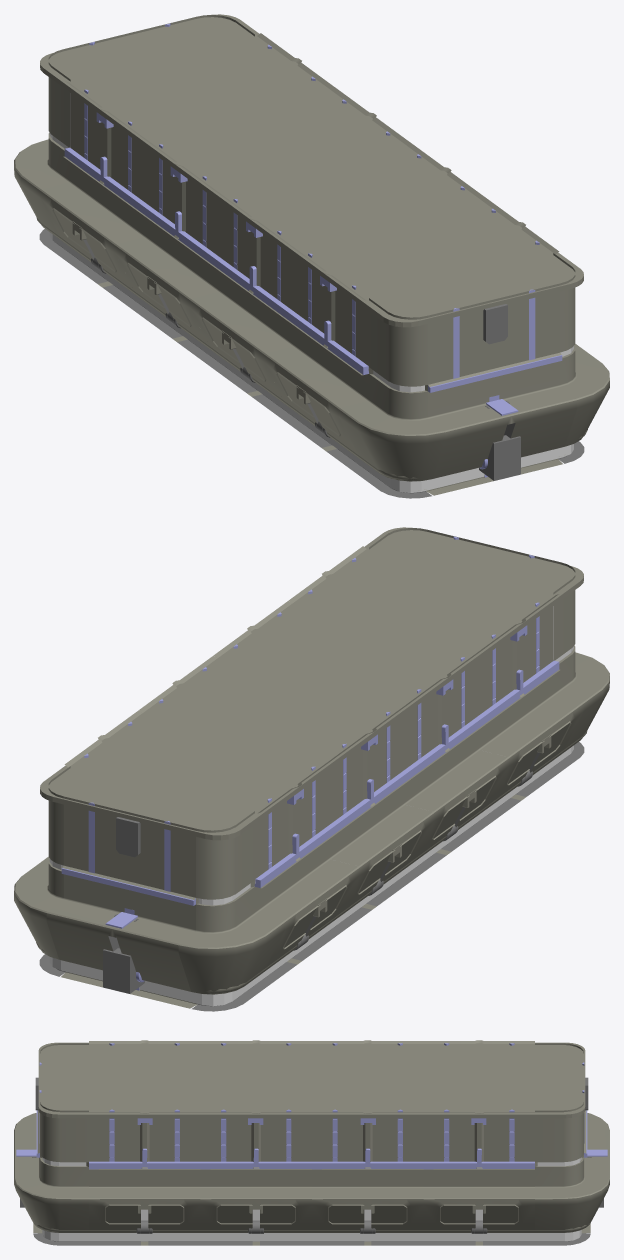
Rendered from modular_v2.glb.
3 renders of one model, top to bottom at view 1: azimuth 30°, elevation 25°; view 2: azimuth 150°, elevation 25°; view 3: azimuth 270°, elevation 25°, orthographic. The views are drawn at different scales.
Parts seen in each view (by area): view 1: Plane, Cube.001, Cube.004, Cube.002, -col; view 2: Plane, Cube.001, Cube.004, Cube.002, -col; view 3: Cube.001, Plane, Cube.002, -col, Cube.004.
Boxes of the visible parts, box(x1,y1,x2,y2) form: Plane: box(40, 14, 583, 327); Cube.001: box(40, 33, 582, 476); Cube.004: box(47, 17, 577, 495); Cube.002: box(14, 15, 609, 498); -col: box(49, 93, 573, 492); Plane: box(40, 527, 583, 840); Cube.001: box(41, 546, 583, 989); Cube.004: box(46, 530, 576, 1008); Cube.002: box(14, 528, 609, 1011); -col: box(49, 606, 573, 1006); Cube.001: box(89, 1040, 534, 1245); Plane: box(38, 1042, 585, 1124); Cube.002: box(14, 1043, 609, 1245); -col: box(42, 1157, 581, 1241); Cube.004: box(14, 1062, 609, 1233).
Size of the model in its own units: 30.9 by 21.24 by 86.67.
